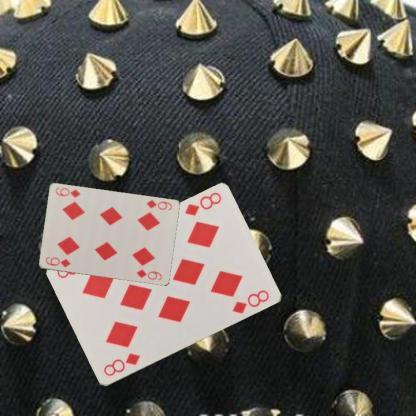6d: (43, 254, 72, 269), (143, 198, 173, 212)
8d: (182, 189, 223, 218), (101, 351, 142, 378)
